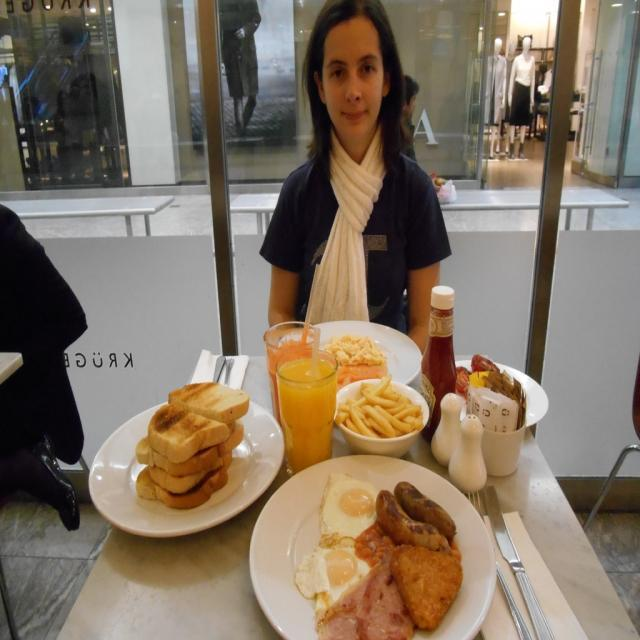Juice: (274, 350, 341, 478)
